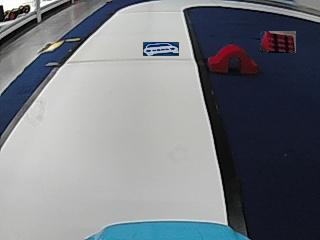bridge: (208, 42, 257, 74)
